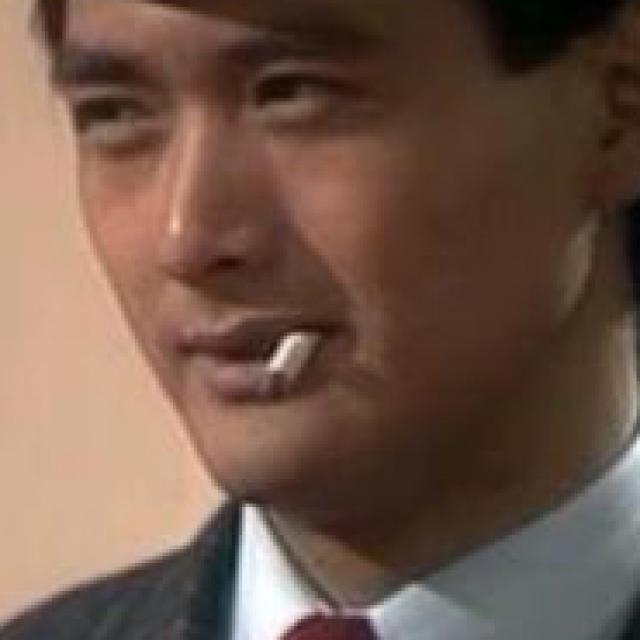smoking: (260, 327, 320, 405)
